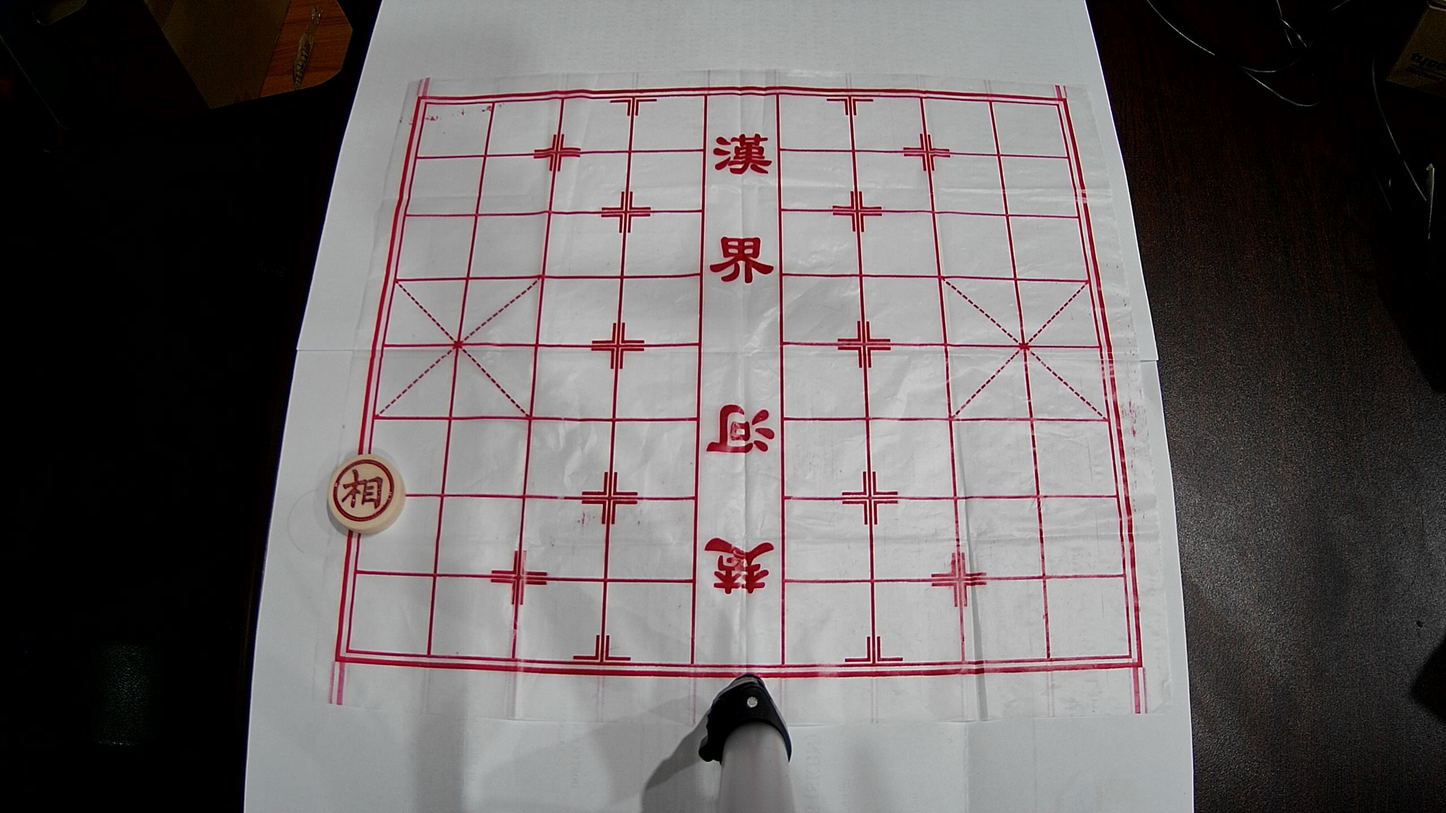Red-Elephant: (329, 454, 405, 534)
